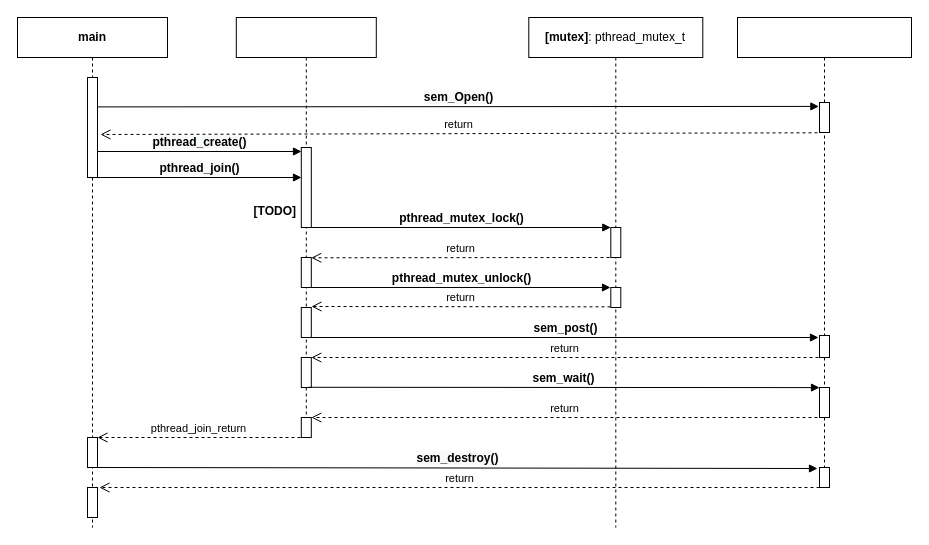
The diagram is 929 pixels wide and 545 high, and some of its shapes have lost their labels. The box of each missing label's shape, as (x1, y1, x2, y2) in pixels:
[semaphore] : sem_t: (736, 16, 912, 488)
[thread_1] :pthread_t: (235, 16, 376, 438)
